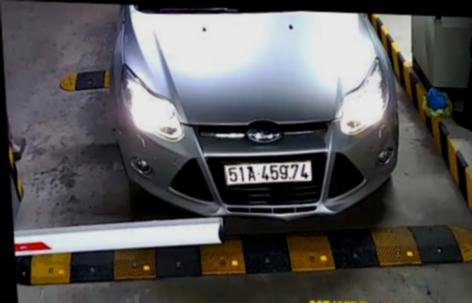License_Plate: (219, 157, 317, 188)
